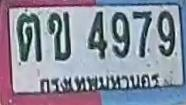4: (87, 10, 107, 58)
7: (132, 10, 152, 58)
9: (111, 11, 130, 58), (157, 10, 175, 56)
A02: (48, 12, 70, 60)
A21: (17, 13, 41, 62)
BKK: (38, 68, 163, 95)
